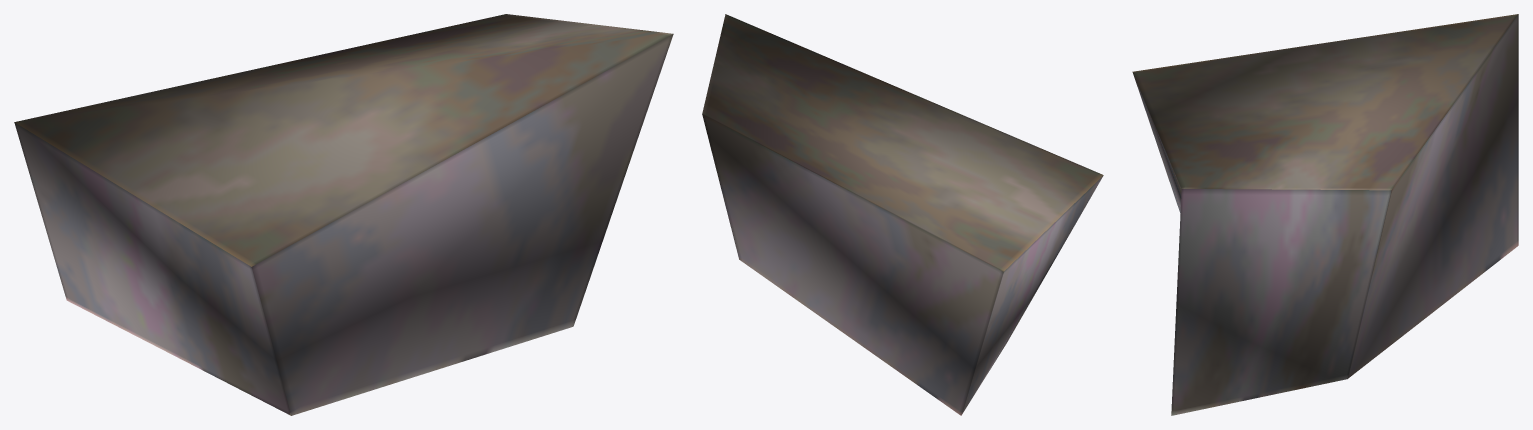
3 renders of one model, left to right at view 1: azimuth 30°, elevation 25°; view 2: azimuth 150°, elevation 25°; view 3: azimuth 270°, elevation 25°, orthographic. The views are drawn at different scales.
Visible parts, largest first — view 1: T1L8M004_10; view 2: T1L8M004_10; view 3: T1L8M004_10.
Part boxes in pixels (left/top/right/bottom): T1L8M004_10: left=14, top=14, right=673, bottom=415; T1L8M004_10: left=702, top=14, right=1103, bottom=415; T1L8M004_10: left=1132, top=14, right=1518, bottom=415.
Size of the model in its own units: 0.2334 by 0.1357 by 0.1455.
